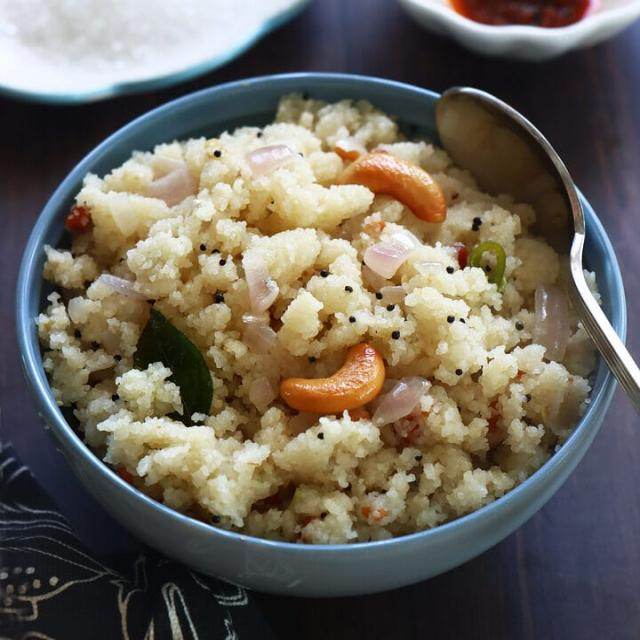upma: (25, 72, 608, 555)
